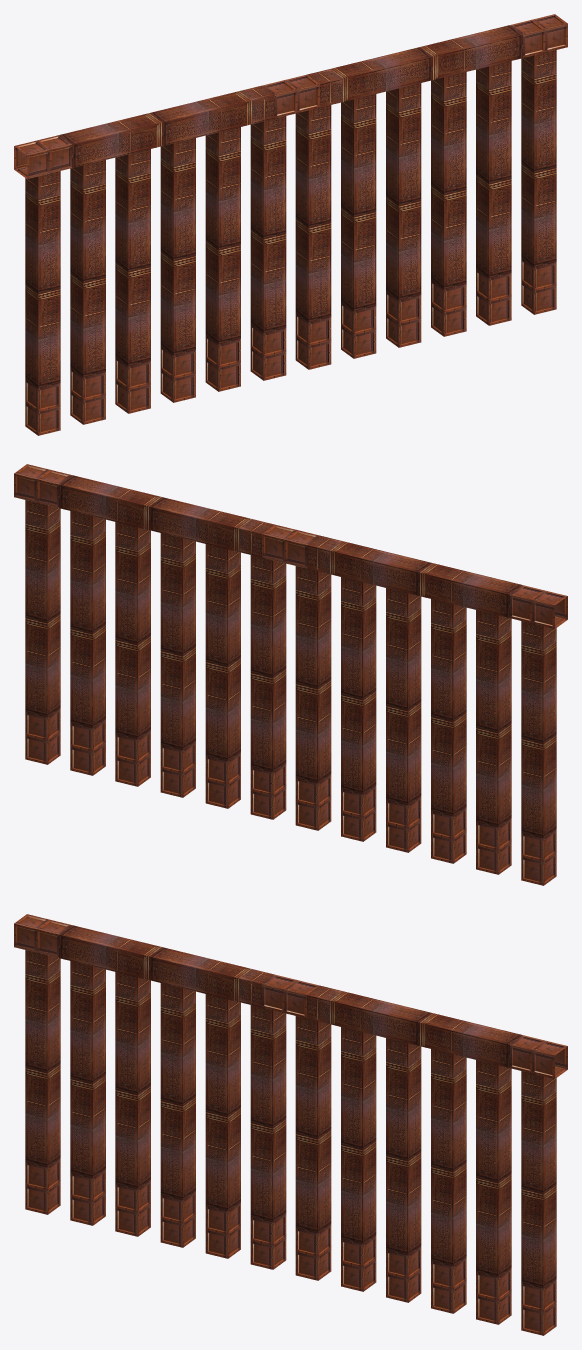
Rendered from env_dynamic_prison_gate.FBX.
3 views of the same model, one above another, from view 1: azimuth 30°, elevation 25°; view 2: azimuth 150°, elevation 25°; view 3: azimuth 330°, elevation 25° (orthographic).
Parts seen in each view (by area): view 1: Object013; view 2: Object013; view 3: Object013.
Boxes of the visible parts, <box> form: Object013: <box>14,14,567,435</box>; Object013: <box>14,464,567,885</box>; Object013: <box>14,914,567,1335</box>.
Bounding box in the file's own units: 472 × 236 × 19.69.
2 materials, 2 textured.
